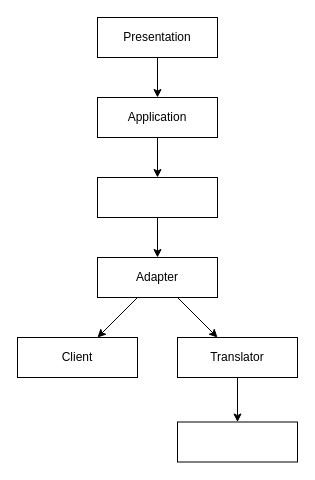
This 315x480 diagram has some shape labels left out. Each missing label, with the box of its shape:
Domain: (176, 421, 298, 462)
Repository: (96, 176, 218, 218)
